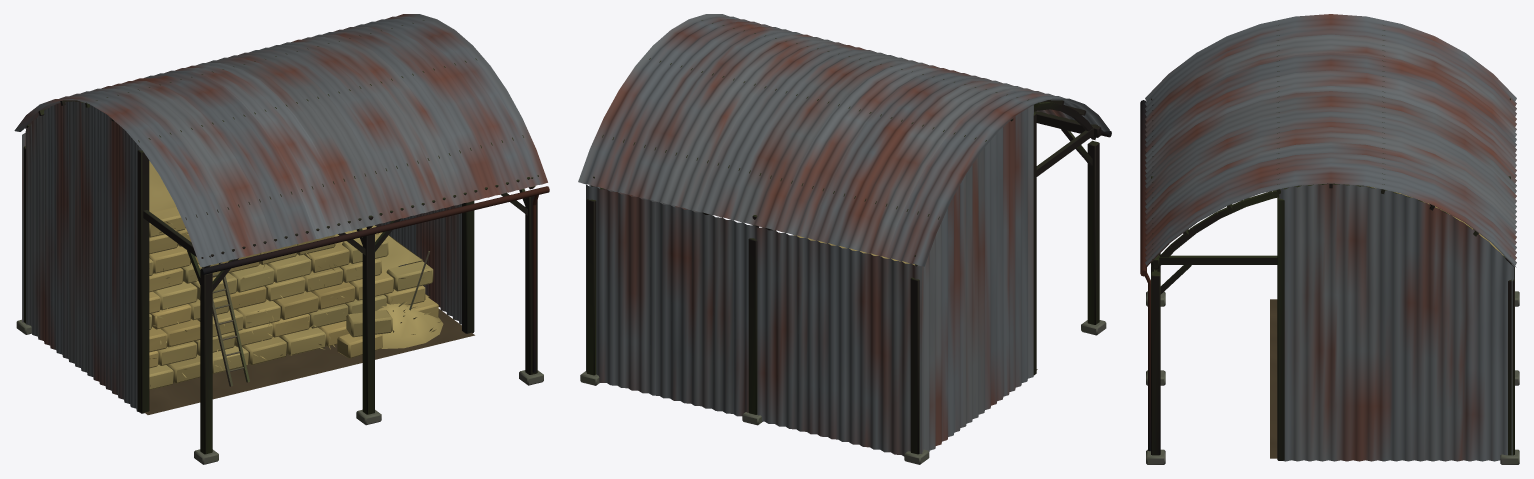
Rendered from dutch_barn.glb.
The picture shows the model from 3 angles, left to right: view 1: azimuth 30°, elevation 25°; view 2: azimuth 150°, elevation 25°; view 3: azimuth 270°, elevation 25°; orthographic projection.
Parts seen in each view (by area): view 1: Body; view 2: Body; view 3: Body.
Part boxes in pixels (x1,y1,x2,y2): Body: [14, 14, 549, 464]; Body: [578, 14, 1111, 464]; Body: [1140, 14, 1519, 464].
Size of the model in its own units: 8.24 by 6.43 by 7.8.
